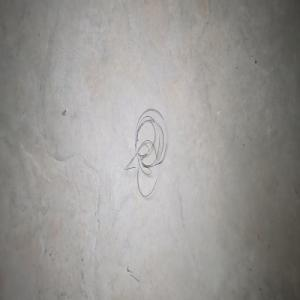Wire: (124, 108, 166, 196)
